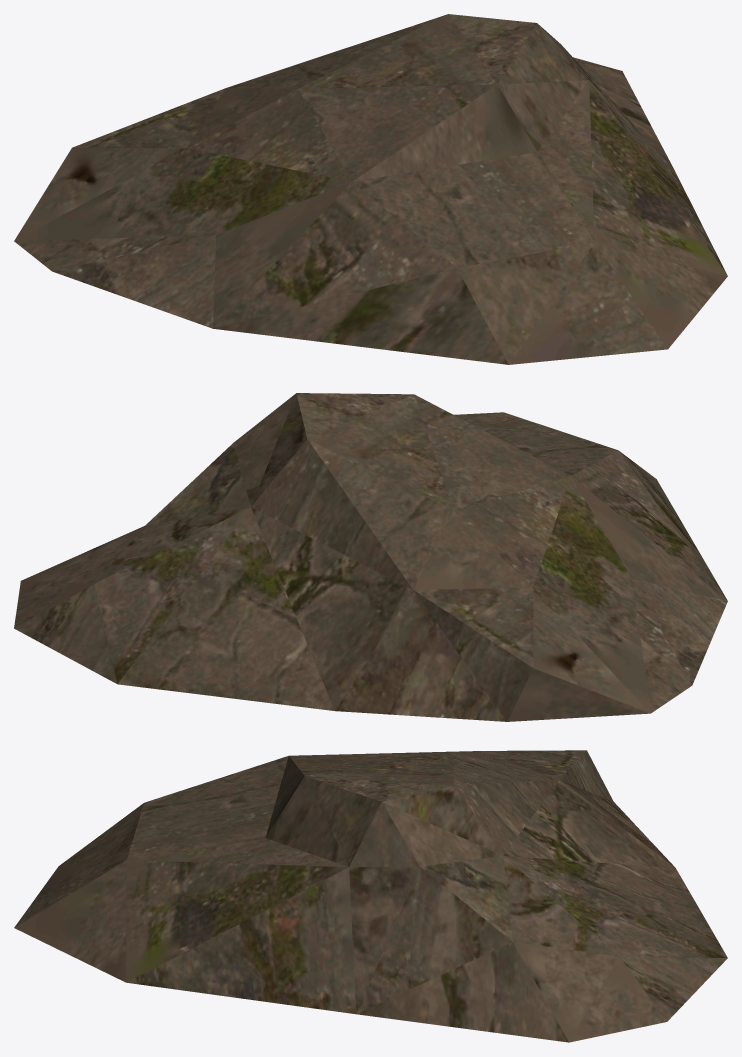
Rendered from Rubbles_.fbx.
3 renders of one model, top to bottom at view 1: azimuth 30°, elevation 25°; view 2: azimuth 150°, elevation 25°; view 3: azimuth 270°, elevation 25°, orthographic. The views are drawn at different scales.
Visible parts, largest first — view 1: Rubble_Big_Col:Rubble_Big_Col_0; view 2: Rubble_Big_Col:Rubble_Big_Col_0; view 3: Rubble_Big_Col:Rubble_Big_Col_0.
Part boxes in pixels (x1=…): Rubble_Big_Col:Rubble_Big_Col_0: x1=14, y1=14, x2=727, y2=364; Rubble_Big_Col:Rubble_Big_Col_0: x1=14, y1=393, x2=727, y2=721; Rubble_Big_Col:Rubble_Big_Col_0: x1=14, y1=750, x2=727, y2=1042.
Bounding box in the file's own units: 41.41 × 10.41 × 43.22.
1 material, 1 textured.
